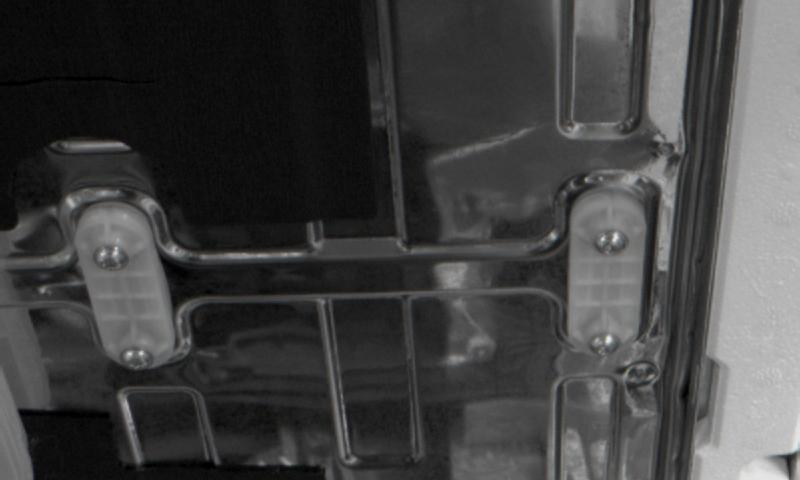vida-ok: (86, 233, 132, 277), (587, 219, 634, 262), (581, 323, 627, 363), (116, 339, 161, 378)
